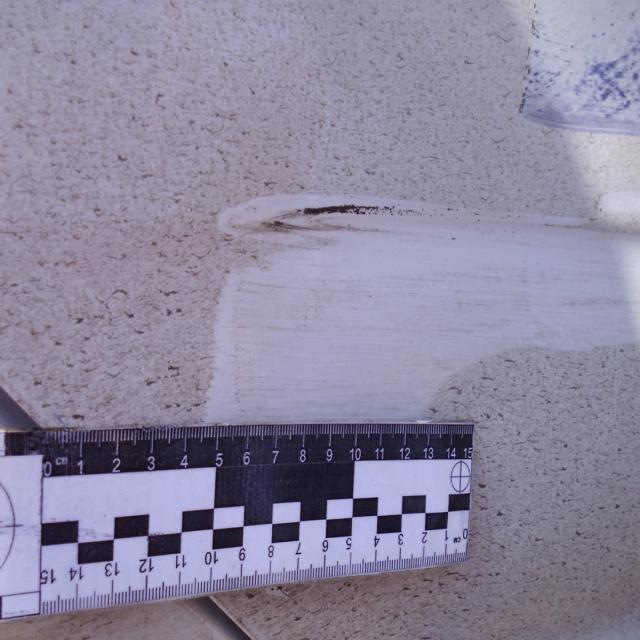Rayure: (205, 194, 635, 433), (268, 201, 418, 227)
